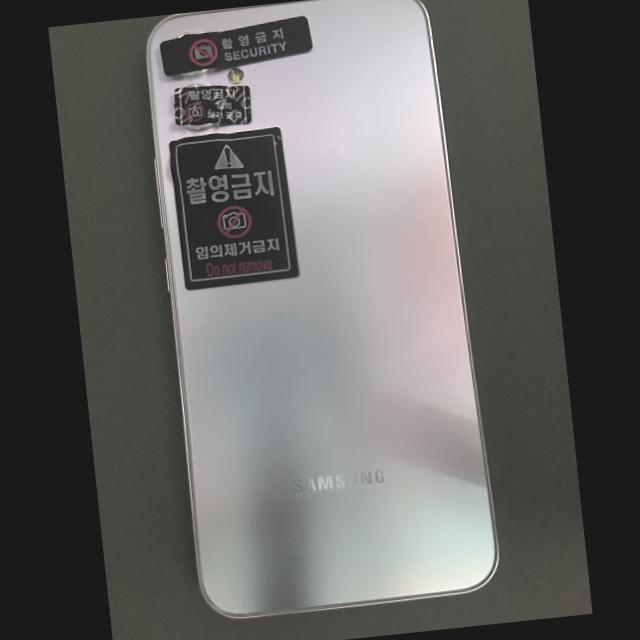lens: (182, 69, 210, 77), (184, 123, 215, 130)
phone: (148, 0, 498, 617)
sticker: (170, 128, 299, 289), (161, 17, 312, 76), (174, 85, 251, 126)
